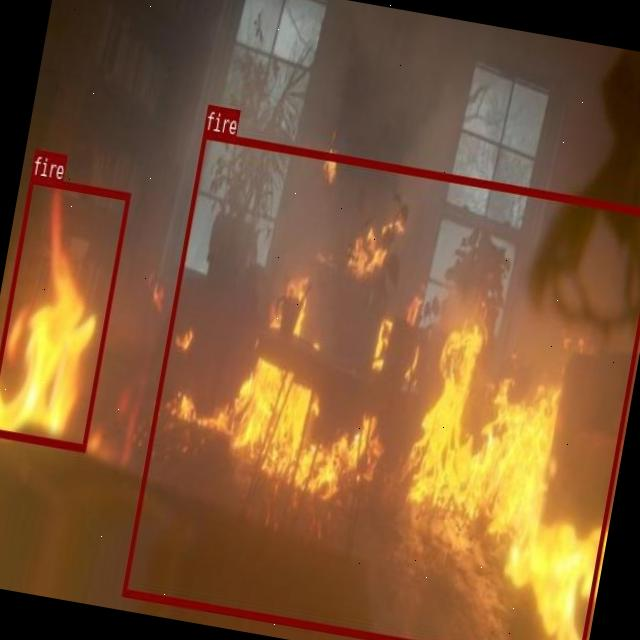fire: (121, 129, 640, 640), (0, 173, 130, 451)
